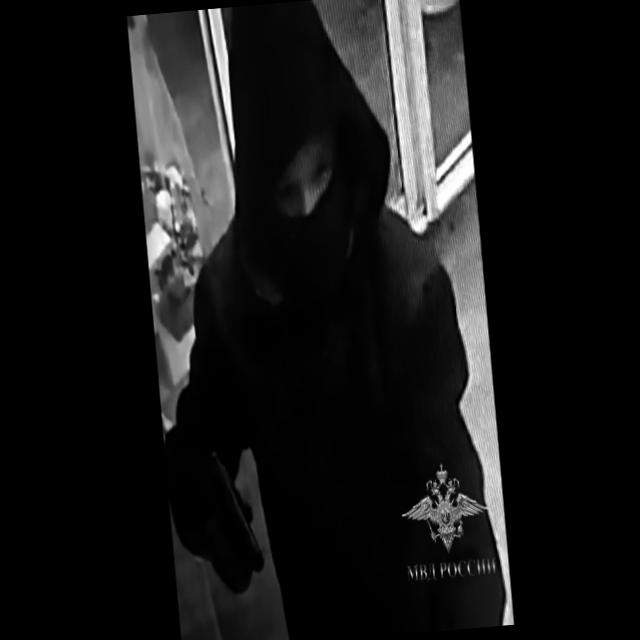gun: (205, 431, 268, 595)
person with a gun: (132, 0, 489, 640)
